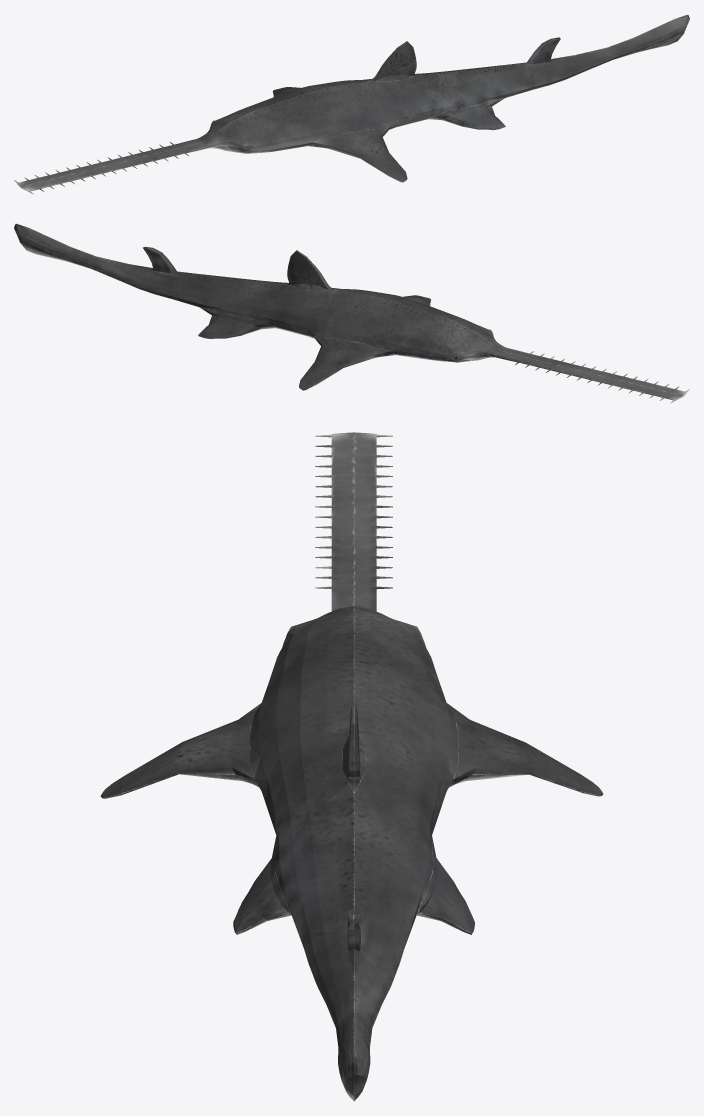
File: shark.glb
3 views of the same model, one above another, from view 1: azimuth 30°, elevation 25°; view 2: azimuth 150°, elevation 25°; view 3: azimuth 270°, elevation 25° (orthographic). The views are drawn at different scales.
Parts seen in each view (by area): view 1: XCK4MT5N4X1F8D1KTVHC9ZUYP; view 2: XCK4MT5N4X1F8D1KTVHC9ZUYP; view 3: XCK4MT5N4X1F8D1KTVHC9ZUYP.
Boxes of the visible parts, bbox=[...] form: XCK4MT5N4X1F8D1KTVHC9ZUYP: bbox=[14, 14, 689, 194]; XCK4MT5N4X1F8D1KTVHC9ZUYP: bbox=[14, 223, 689, 403]; XCK4MT5N4X1F8D1KTVHC9ZUYP: bbox=[100, 432, 603, 1101].
Bounding box in the file's own units: 2.5 × 0.2903 × 0.813.
1 material, 1 textured.
